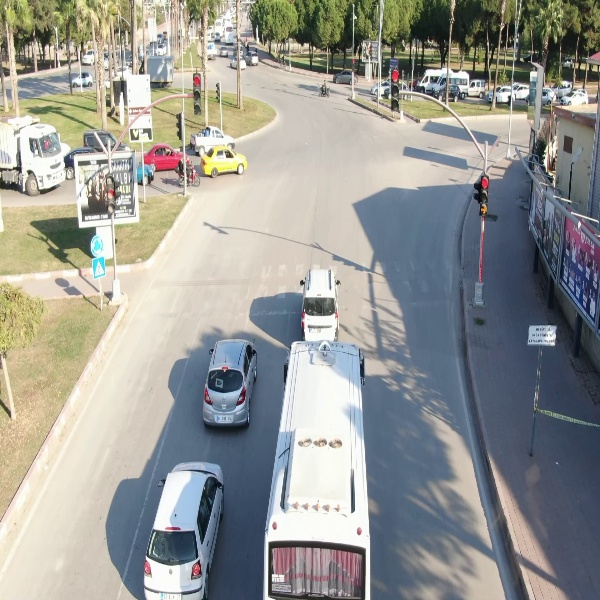car: (140, 458, 229, 600), (201, 337, 260, 429), (296, 266, 343, 345), (198, 143, 248, 179), (431, 84, 464, 104), (486, 84, 517, 104), (558, 89, 589, 105), (72, 69, 94, 89), (331, 68, 358, 84)
